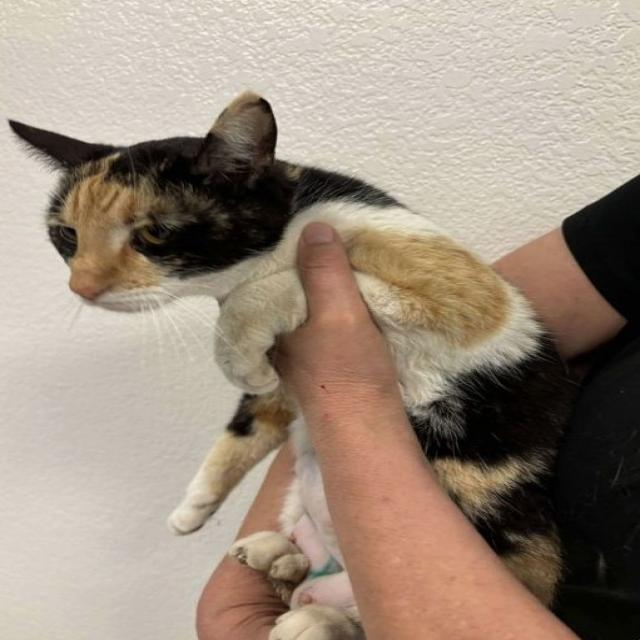calico_cat: (4, 85, 296, 319)
